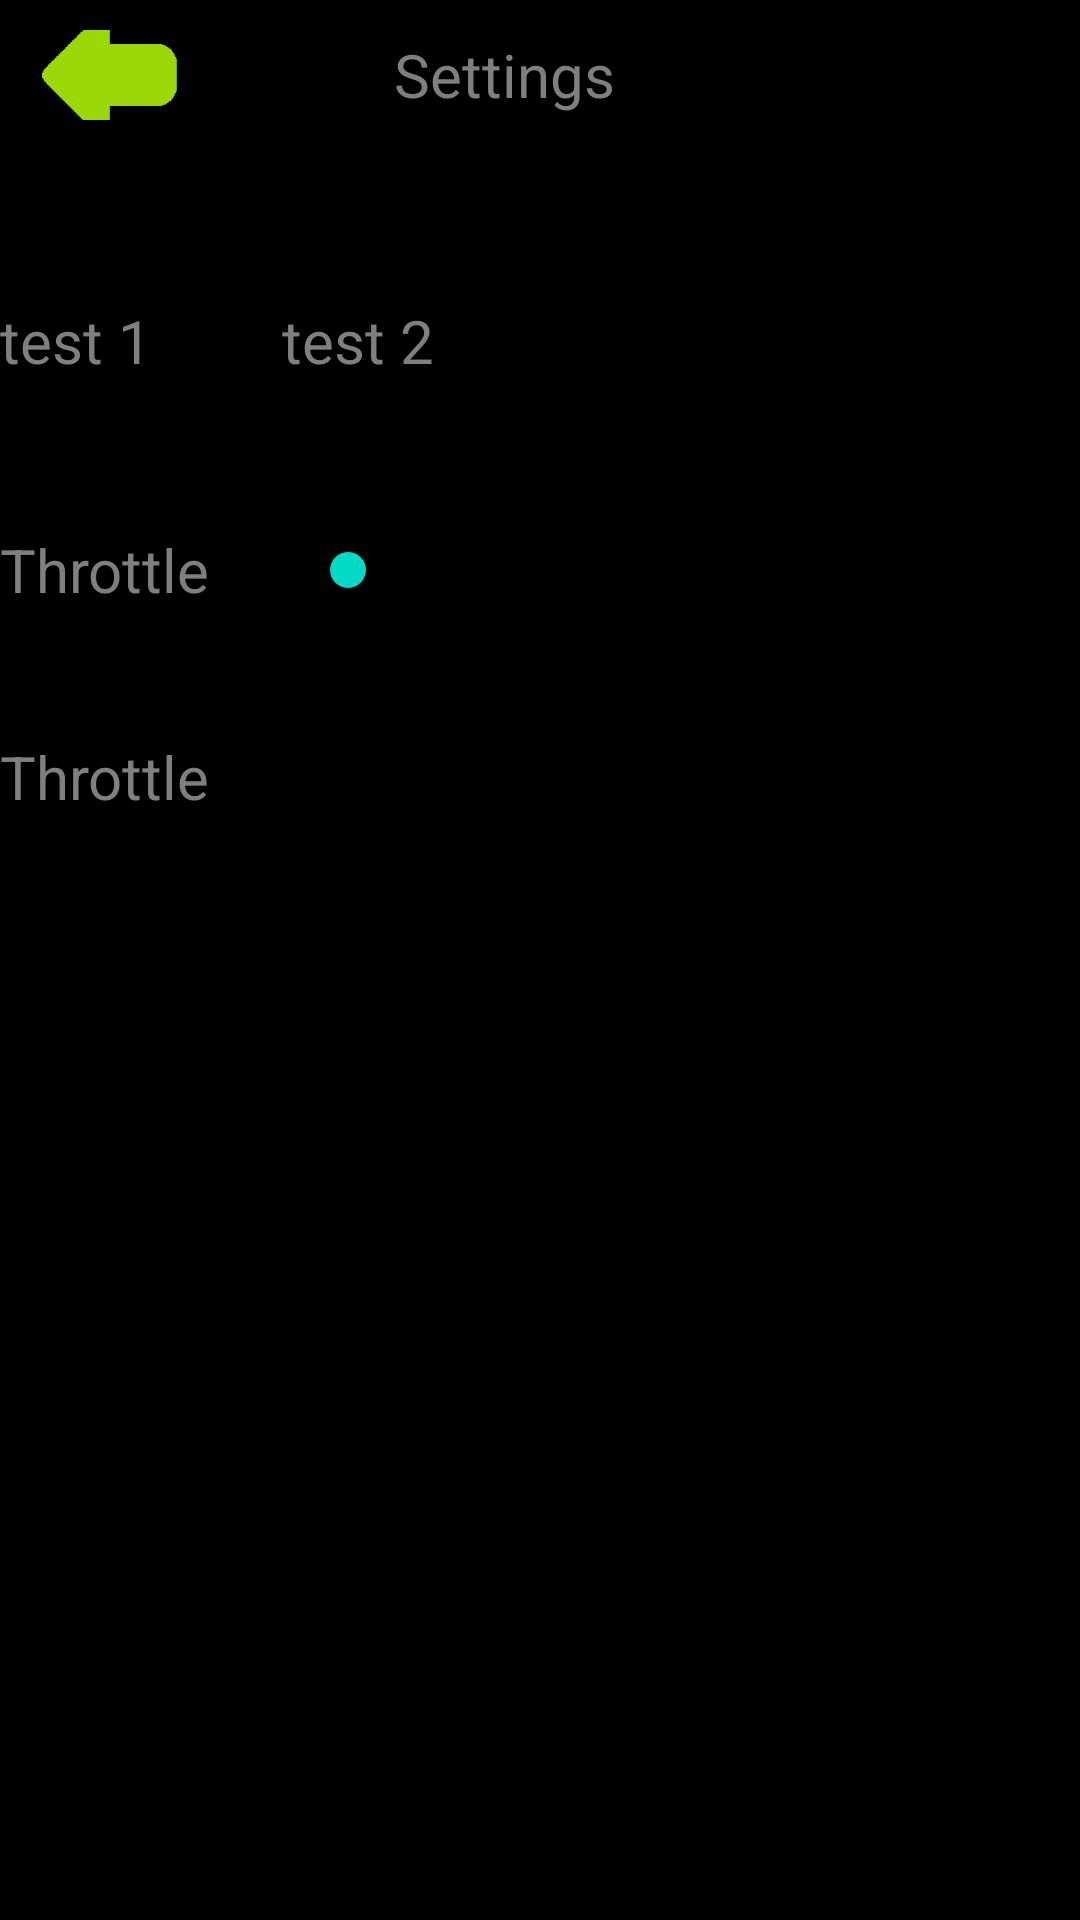

Locate icon controls on the screen. Image size 1080 × 1920, boxes as (x1, y1, x2, y2).
unselect back: (42, 30, 177, 120)
